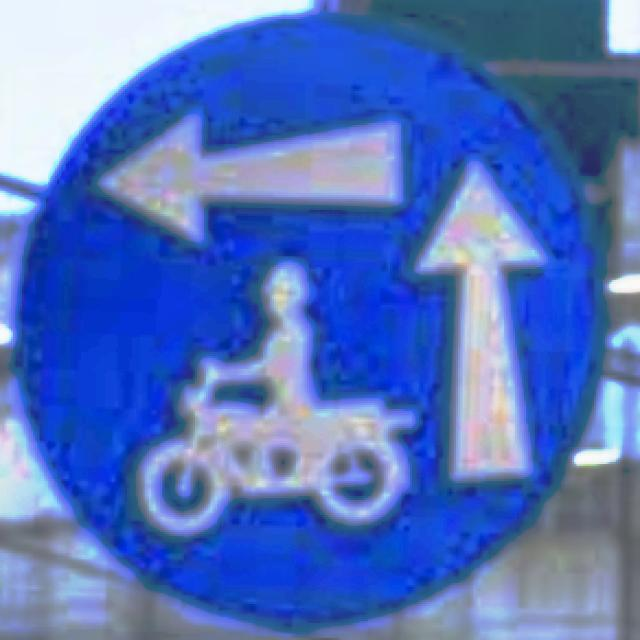twostageturn: (11, 13, 607, 636)
